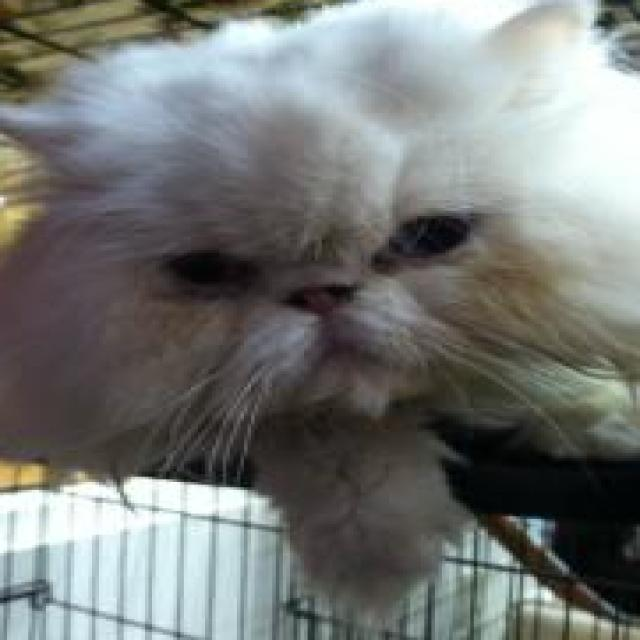Persian: (0, 0, 640, 616)
